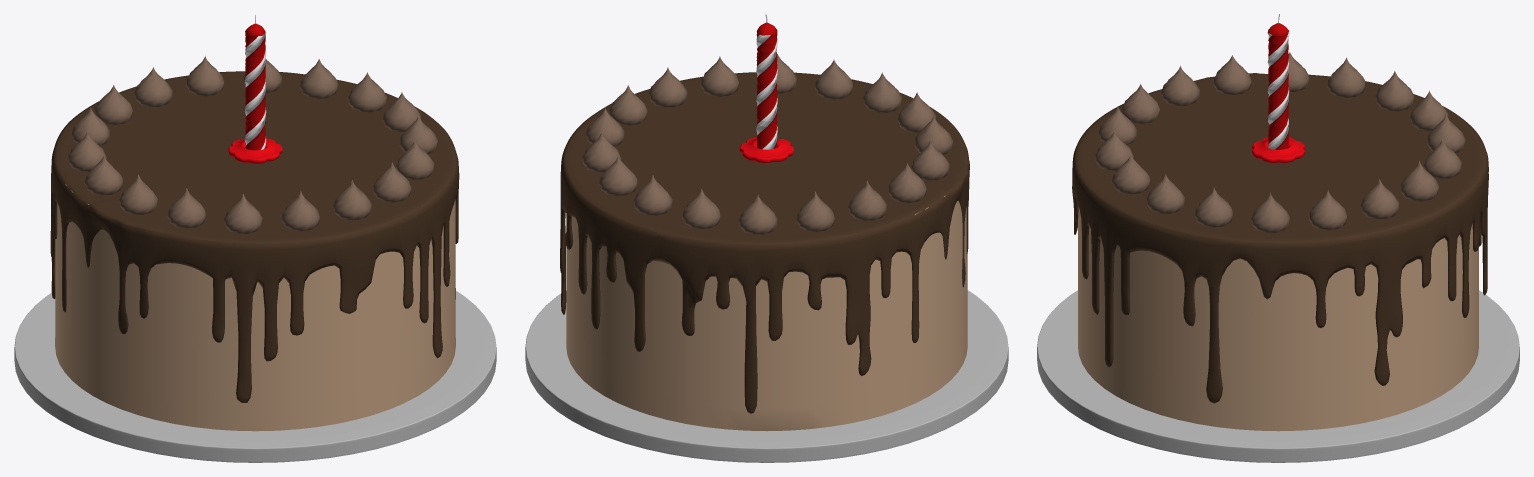
The model's file is Digitechcake_yaray.glb.
3 renders of one model, left to right at view 1: azimuth 30°, elevation 25°; view 2: azimuth 150°, elevation 25°; view 3: azimuth 270°, elevation 25°, orthographic.
Visible parts, largest first — view 1: Chocolate dripping, cake, Base, Sphere7, Candle.001, Candle, Candle.002; view 2: Chocolate dripping, cake, Base, Sphere7, Candle.001, Candle, Candle.002; view 3: Chocolate dripping, cake, Base, Sphere7, Candle.001, Candle, Candle.002.
Part boxes in pixels (bbox=[...]): Chocolate dripping: bbox=[50, 71, 459, 402]; cake: bbox=[55, 184, 455, 431]; Base: bbox=[14, 291, 496, 462]; Sphere7: bbox=[68, 56, 437, 233]; Candle.001: bbox=[245, 23, 265, 150]; Candle: bbox=[244, 14, 266, 149]; Candle.002: bbox=[228, 138, 282, 163]; Chocolate dripping: bbox=[560, 72, 969, 414]; cake: bbox=[566, 195, 967, 431]; Base: bbox=[525, 290, 1008, 462]; Sphere7: bbox=[582, 53, 952, 234]; Candle.001: bbox=[756, 23, 777, 149]; Candle: bbox=[756, 14, 777, 149]; Candle.002: bbox=[740, 137, 793, 162]; Chocolate dripping: bbox=[1072, 73, 1488, 403]; cake: bbox=[1078, 75, 1478, 431]; Base: bbox=[1037, 290, 1519, 462]; Sphere7: bbox=[1095, 52, 1465, 232]; Candle.001: bbox=[1268, 23, 1288, 149]; Candle: bbox=[1267, 14, 1289, 149]; Candle.002: bbox=[1252, 137, 1304, 162].
Size of the model in its own units: 2.4 by 1.9 by 2.4.
